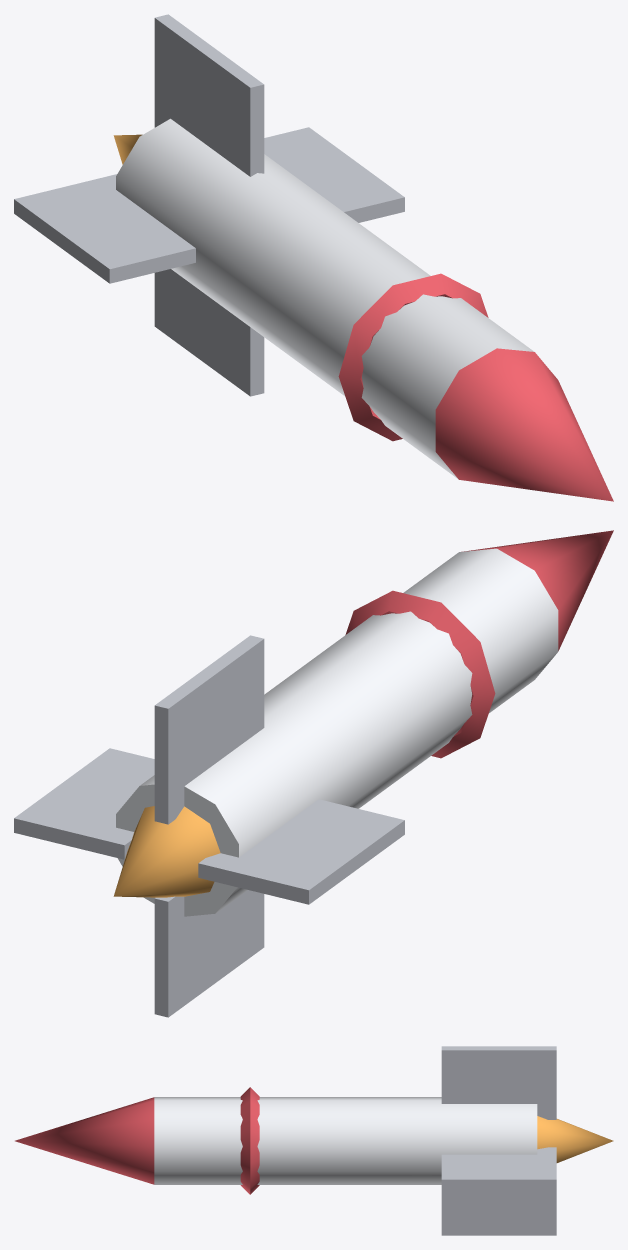
The model's file is sh_rocket.glb.
The picture shows the model from 3 angles, top to bottom: view 1: azimuth 30°, elevation 25°; view 2: azimuth 150°, elevation 25°; view 3: azimuth 270°, elevation 25°; orthographic projection. The views are drawn at different scales.
Parts seen in each view (by area): view 1: sh_rocket; view 2: sh_rocket; view 3: sh_rocket.
Part boxes in pixels (x1=…): sh_rocket: x1=14, y1=14, x2=613, y2=501; sh_rocket: x1=14, y1=530, x2=613, y2=1017; sh_rocket: x1=15, y1=1046, x2=613, y2=1235.
Size of the model in its own units: 0.32 by 0.32 by 0.94.
